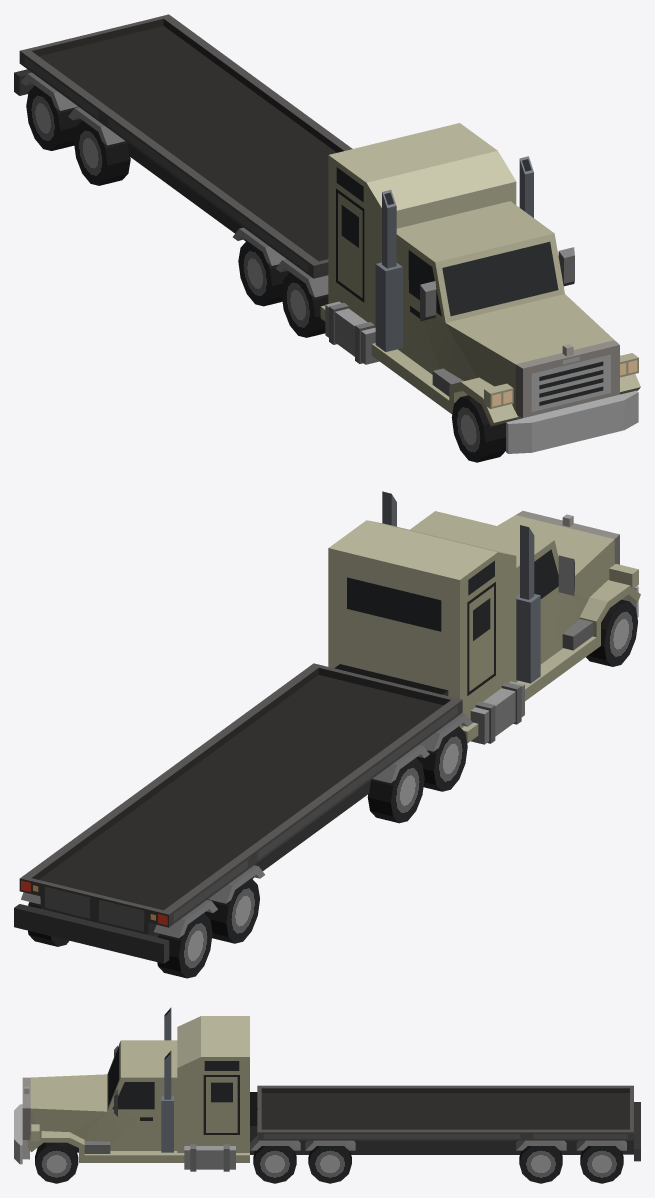
File: SM_Veh_Freight_01_beige.obj
3 views of the same model, one above another, from view 1: azimuth 30°, elevation 25°; view 2: azimuth 150°, elevation 25°; view 3: azimuth 270°, elevation 25° (orthographic). The views are drawn at different scales.
Parts seen in each view (by area): view 1: SM_Veh_BigRig_01:Mesh; view 2: SM_Veh_BigRig_01:Mesh; view 3: SM_Veh_BigRig_01:Mesh.
Boxes of the visible parts, x1,y1,x2,y2 form: SM_Veh_BigRig_01:Mesh: (14,14,640,462); SM_Veh_BigRig_01:Mesh: (14,491,640,978); SM_Veh_BigRig_01:Mesh: (14,1007,640,1183).
Bounding box in the file's own units: 3.78 × 4.52 × 19.78.
Materials: 1 (1 with a texture image).
